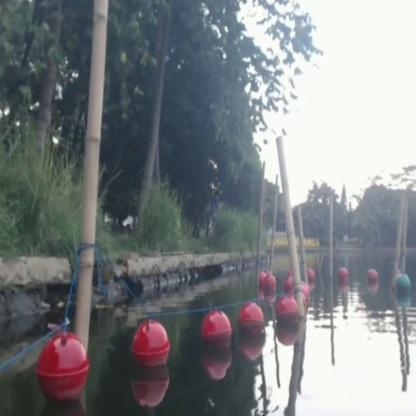green_buoy: (392, 273, 411, 304)
red_buoy: (32, 332, 90, 408), (131, 316, 171, 379), (197, 310, 232, 360), (272, 297, 299, 339), (239, 304, 264, 348), (258, 270, 275, 292), (306, 265, 316, 293), (336, 264, 348, 287), (366, 268, 378, 288)
